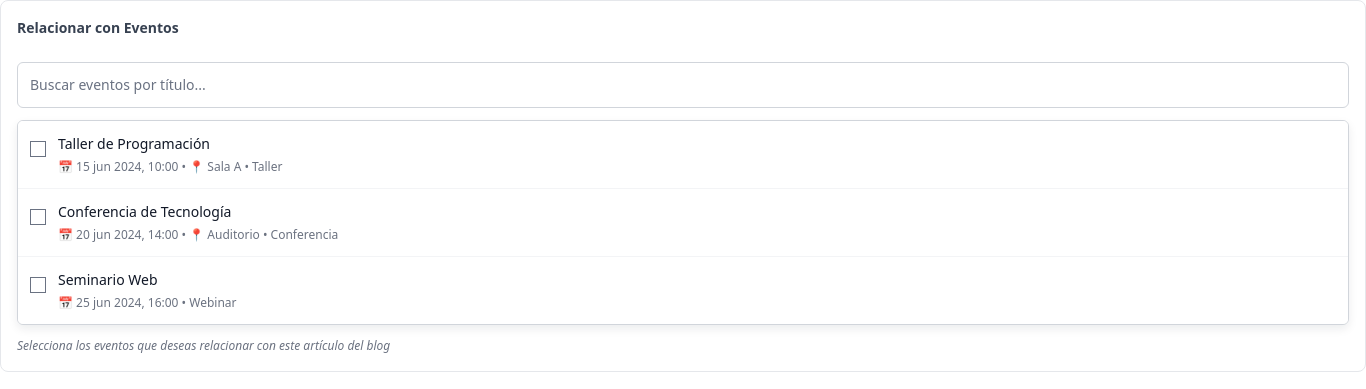
it: BlogEventRelation › Search Functionality › should filter events by search term
Expected: the text "Taller de Programación" is shown, [58,134,210,153]
Type "Conferencia" into the field with placeholder "Buscar eventos por título..." at (683, 85), box [17,62,1349,108]
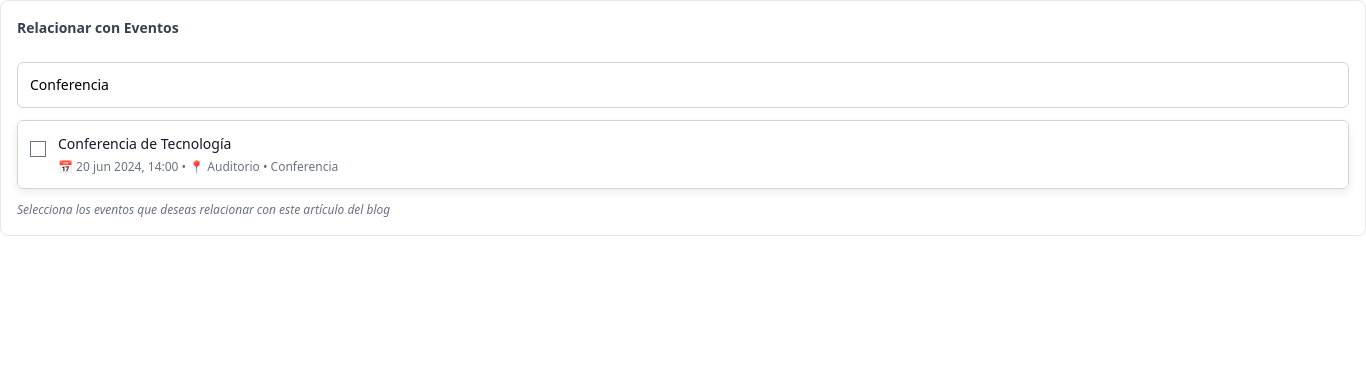
Expected: the element with class "dropdown" is shown, [17,120,1349,189]
Expected: the button "Taller de Programación" is gone
